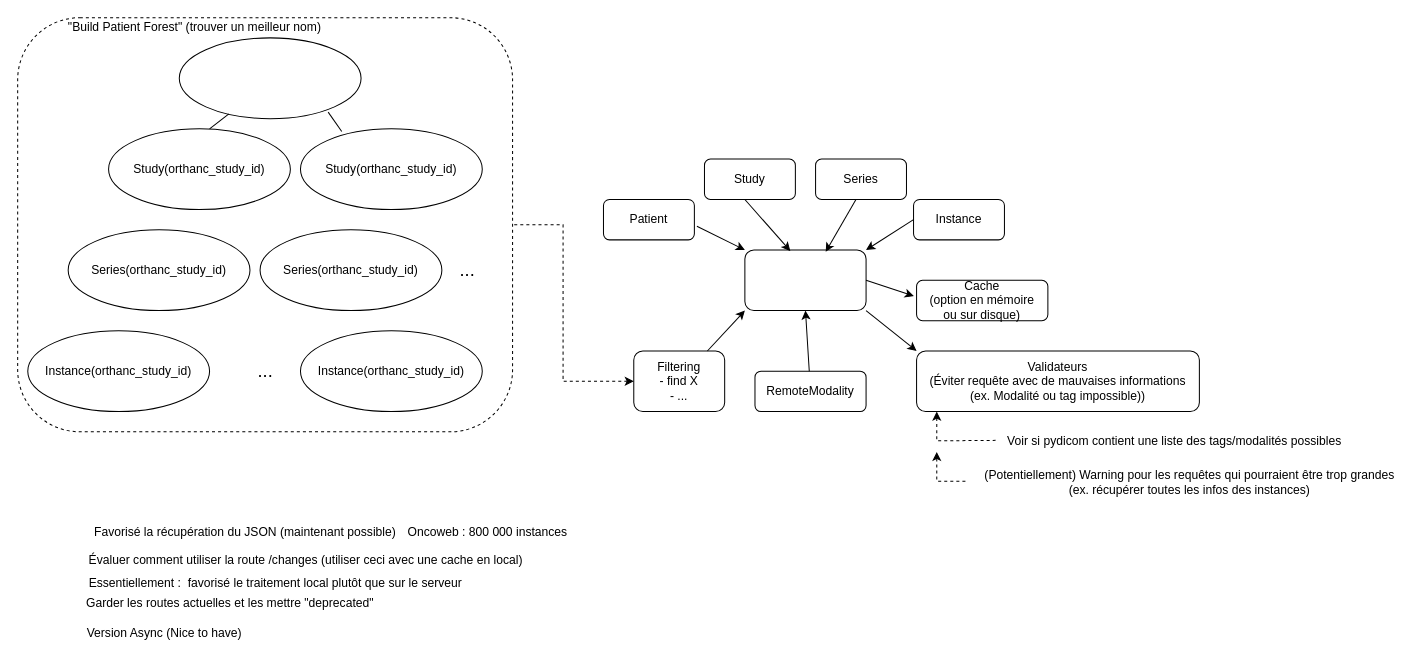
Image size: 1419x662. Some labels were removed from this diagram. Here are the shapes that lost their labels. From the top down, the centre of each, then its label:
At (x=269, y=78): "Patient(orthanc_patient_id)".
At (x=805, y=280): "Orthanc (Client OPENAPI)".
